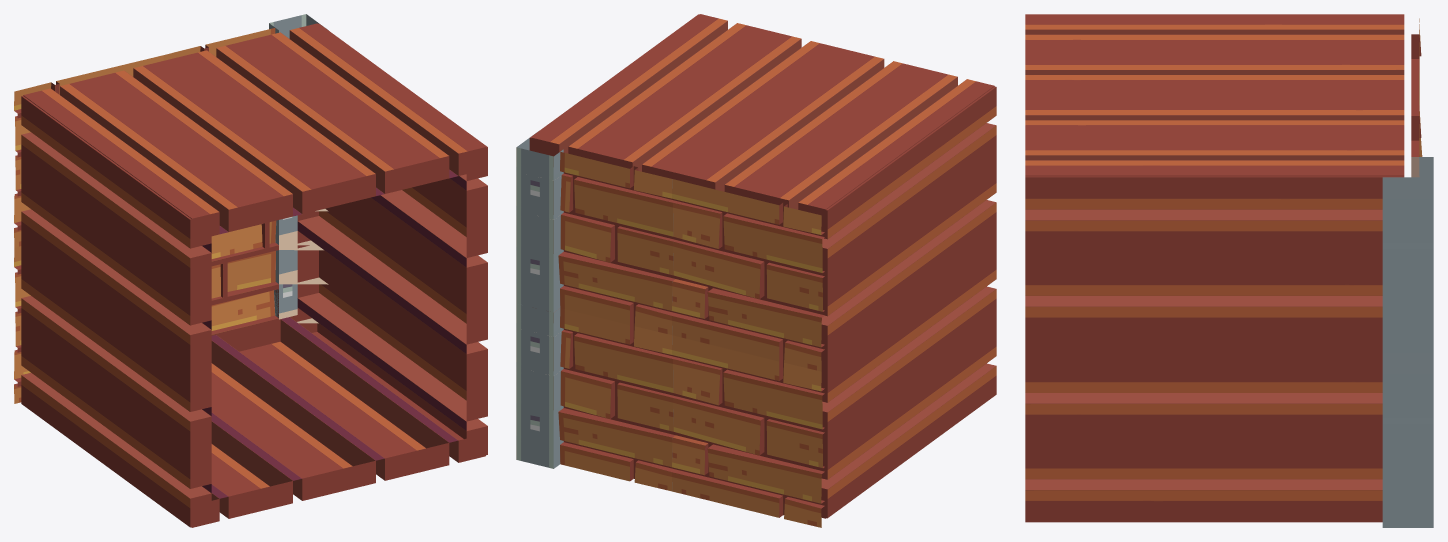
Rendered from LeftKayu.fbx.
3 views of the same model, side by side, from view 1: azimuth 30°, elevation 25°; view 2: azimuth 150°, elevation 25°; view 3: azimuth 270°, elevation 25° (orthographic). The views are drawn at different scales.
Visible parts, largest first — view 1: LeftKayu; view 2: LeftKayu; view 3: LeftKayu.
Boxes of the visible parts, x1,y1,x2,y2 form: LeftKayu: (14, 14, 487, 527); LeftKayu: (516, 14, 996, 527); LeftKayu: (1025, 14, 1433, 527).
Bounding box in the file's own units: 94.81 × 95 × 100.
